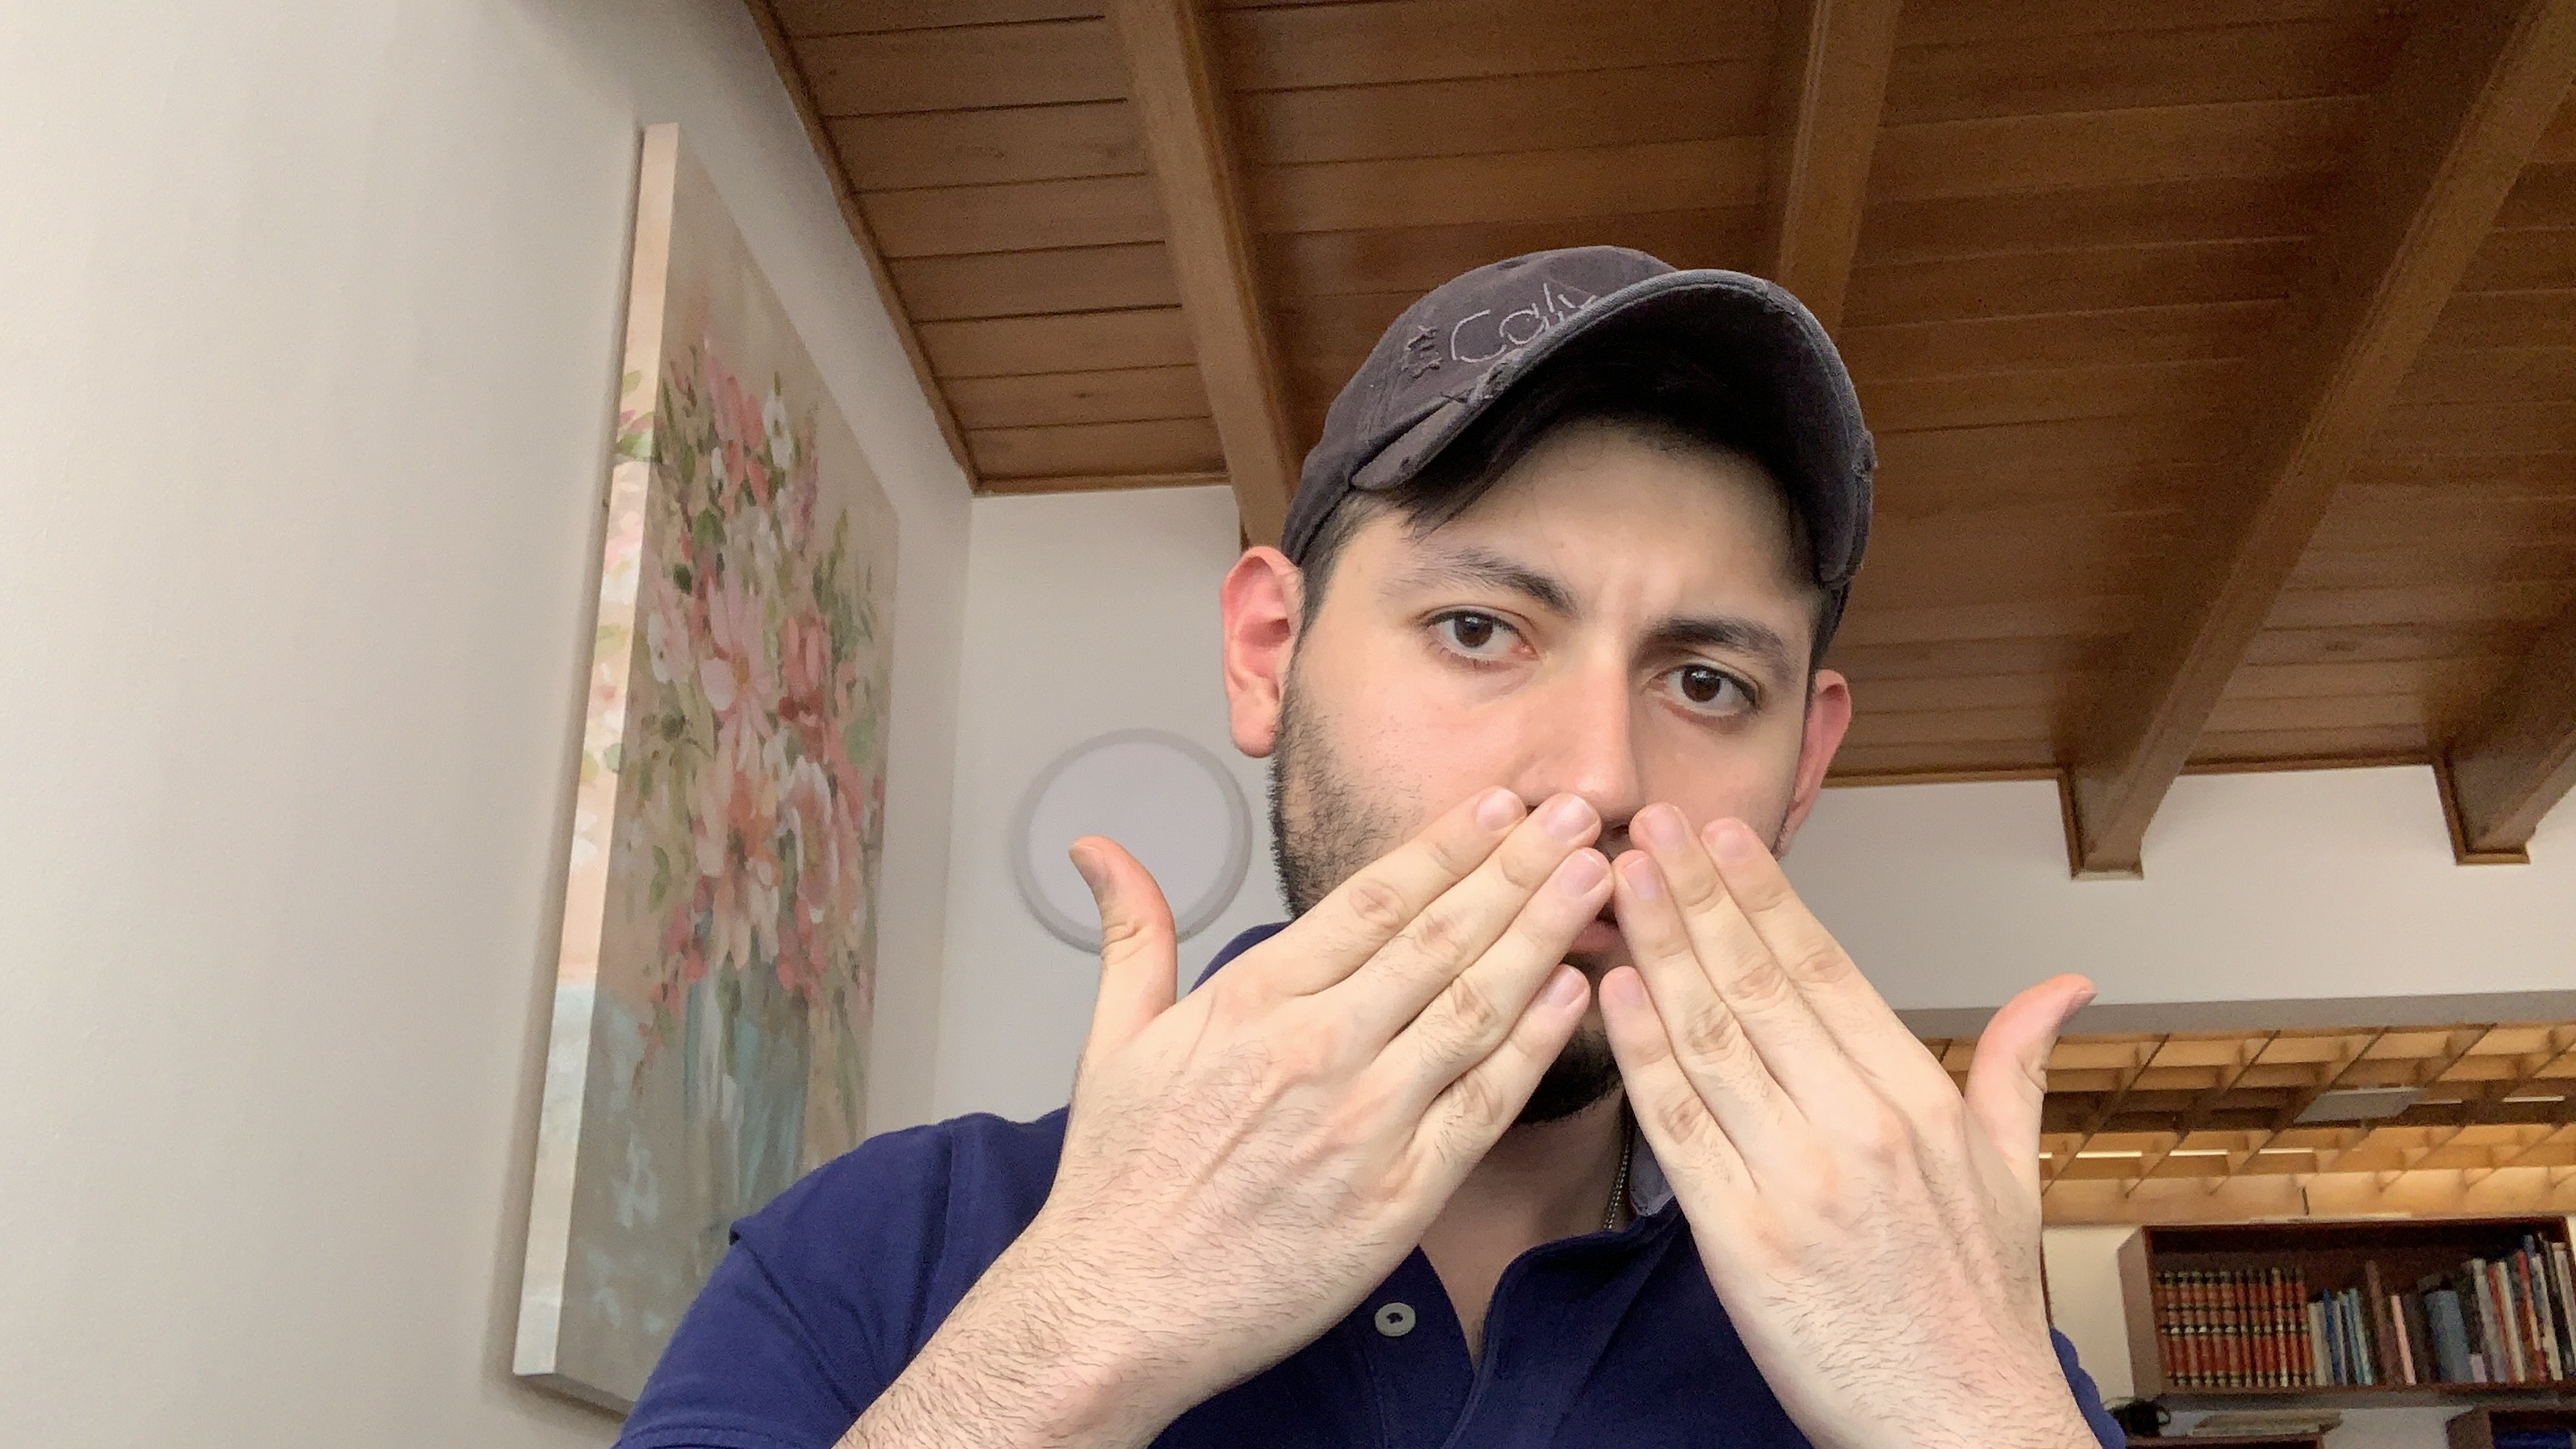Thank You: (1054, 782, 2104, 1405)
